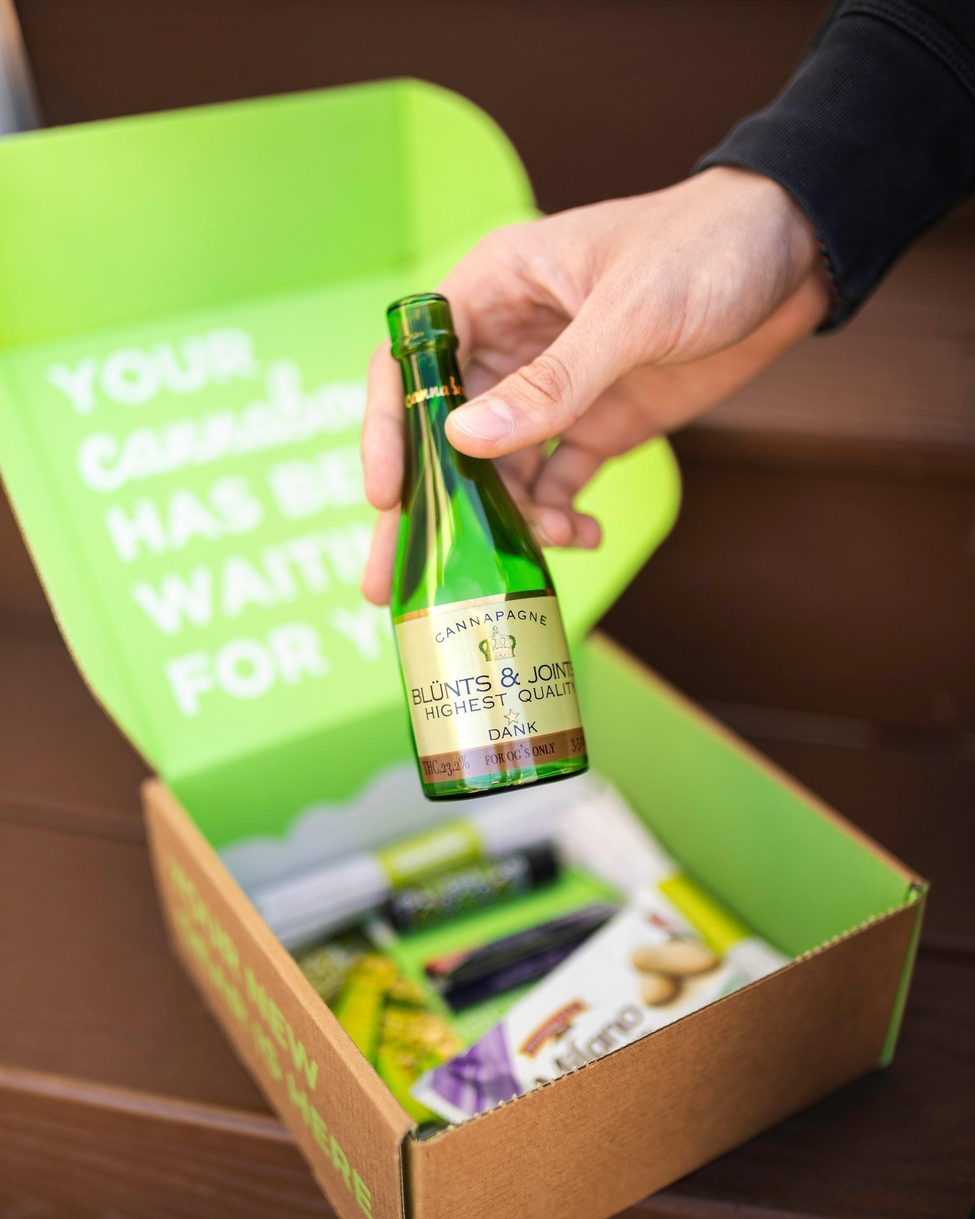bottle-glass: (382, 291, 592, 805)
